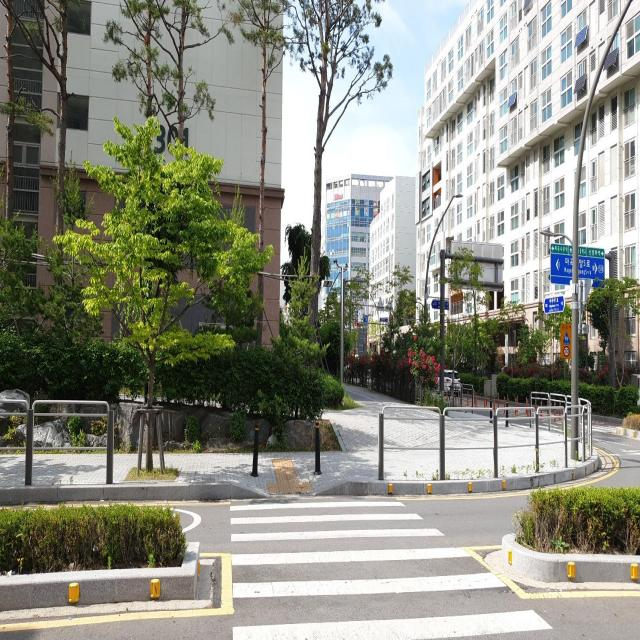횡단보도: (228, 499, 555, 640)
